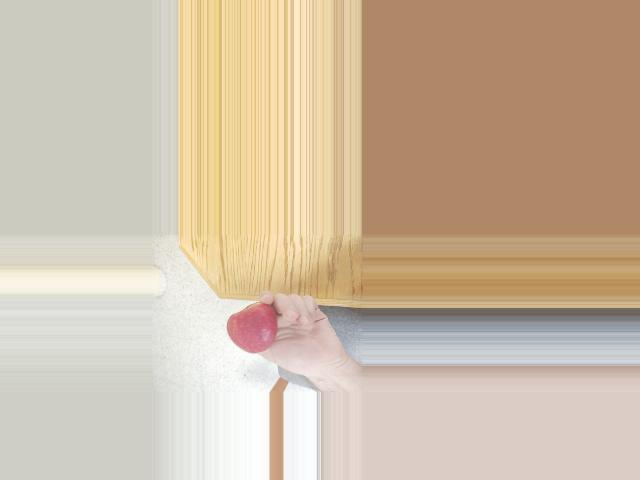apple: (225, 301, 280, 354)
